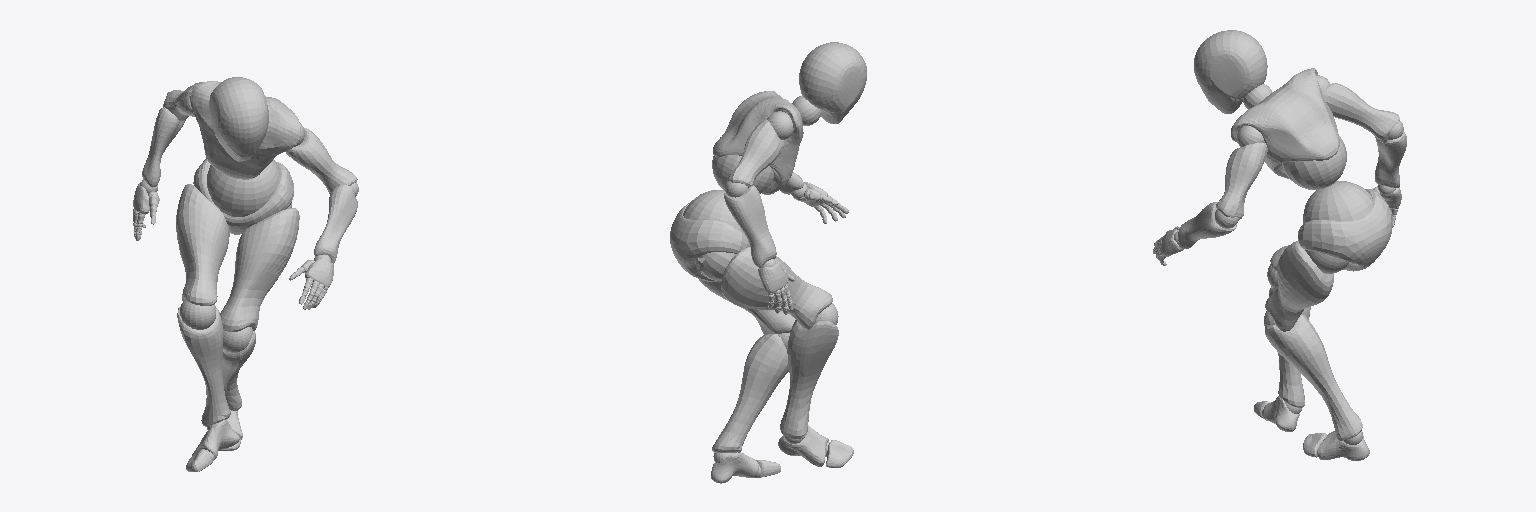
The picture shows the model from 3 angles: view 1: azimuth 30°, elevation 25°; view 2: azimuth 150°, elevation 25°; view 3: azimuth 270°, elevation 25°; orthographic projection.
Parts seen in each view (by area): view 1: Beta_Surface, Beta_Joints; view 2: Beta_Surface, Beta_Joints; view 3: Beta_Surface, Beta_Joints.
Part boxes in pixels (x1,y1,x2,y2): Beta_Surface: (133,77,357,471); Beta_Joints: (133,101,358,460); Beta_Surface: (670,42,866,483); Beta_Joints: (683,96,844,477); Beta_Surface: (1153,30,1406,460); Beta_Joints: (1153,75,1403,444).
Size of the model in its own units: 0.5711 by 1.47 by 0.8371.